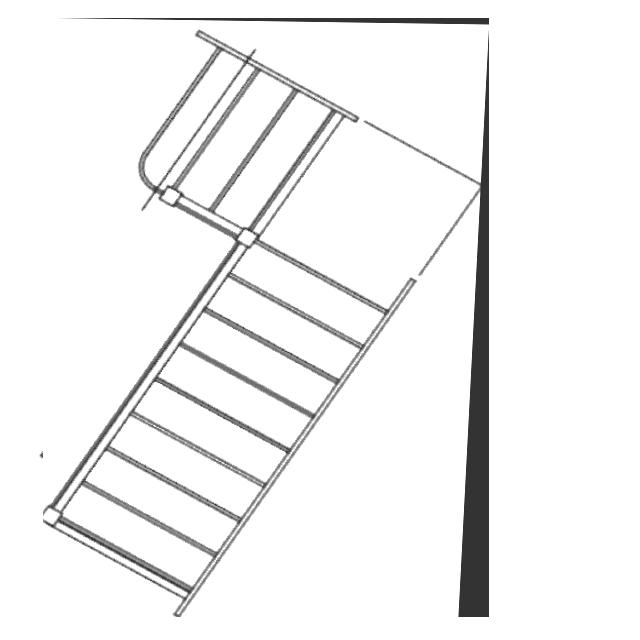stair: (43, 18, 489, 617)
